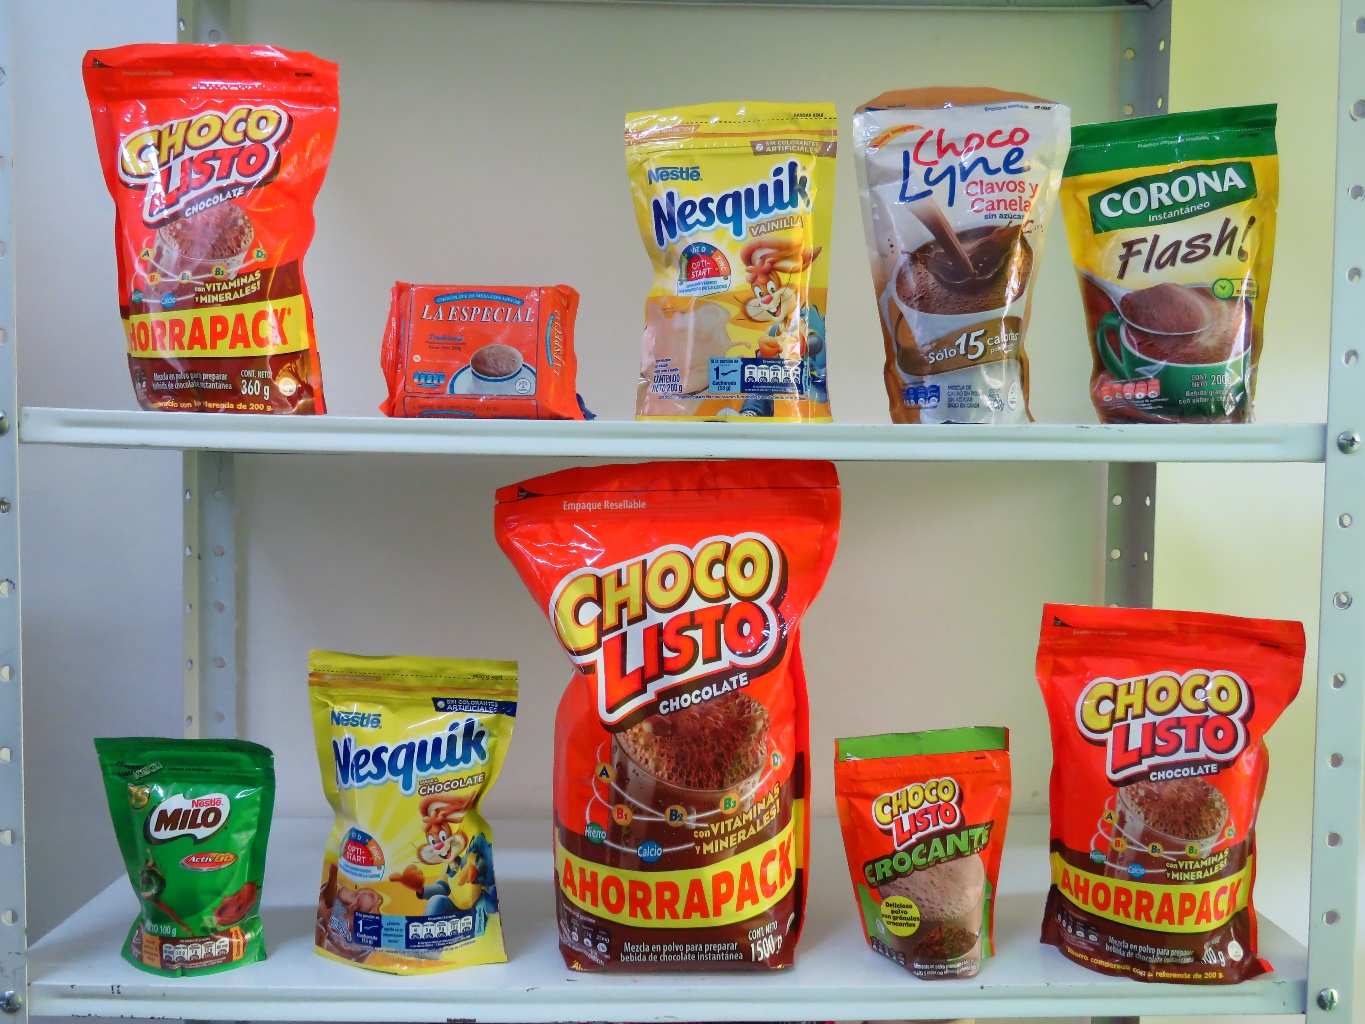COL0170102DYP10000: (835, 720, 1033, 990)
COL0170103DYP1,500: (496, 447, 828, 967)
COL0170103DYP36000: (79, 34, 340, 413)
COL0170103DYP40000: (1051, 594, 1312, 983)
COL0170203DYP10000: (93, 723, 289, 980)
COL0170303DYP20000: (304, 644, 517, 978)
COL0170306DYP20000: (617, 74, 829, 424)
